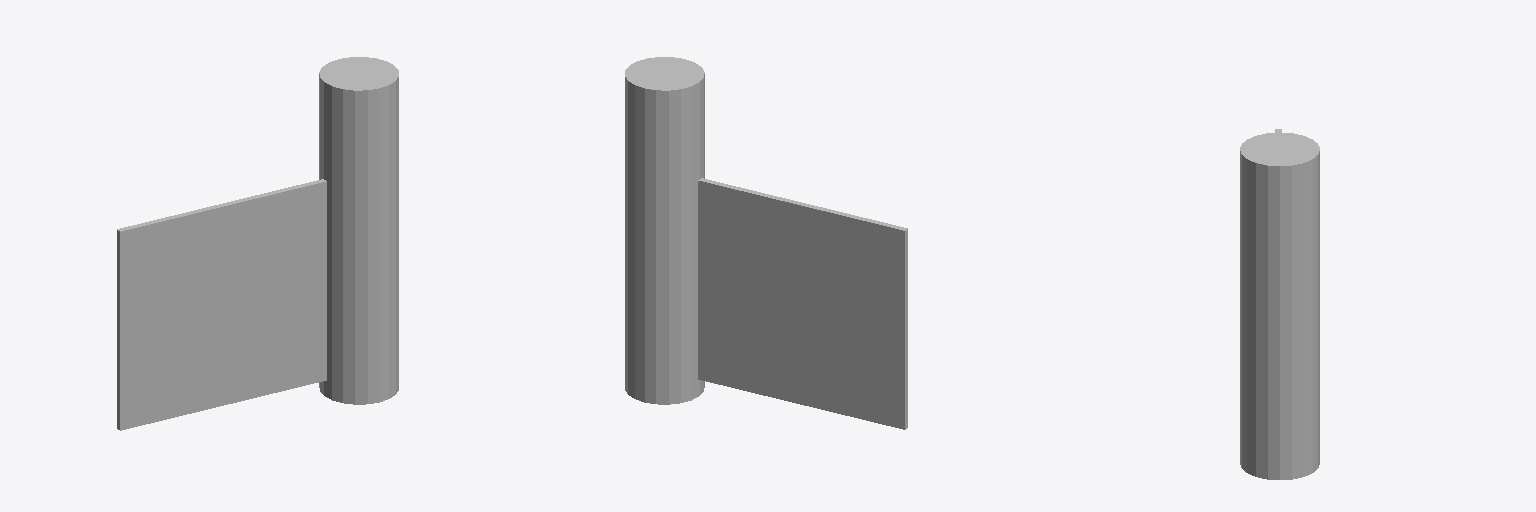
The model's file is walldouble22.obj.
3 views of the same model, side by side, from view 1: azimuth 30°, elevation 25°; view 2: azimuth 150°, elevation 25°; view 3: azimuth 270°, elevation 25° (orthographic).
Parts seen in each view (by area): view 1: walldouble22; view 2: walldouble22; view 3: walldouble22.
Part boxes in pixels (bbox=[...]): walldouble22: bbox=[117, 57, 398, 430]; walldouble22: bbox=[625, 57, 907, 429]; walldouble22: bbox=[1240, 129, 1319, 479].
Bounding box in the file's own units: 25.32 × 27.5 × 6.39.